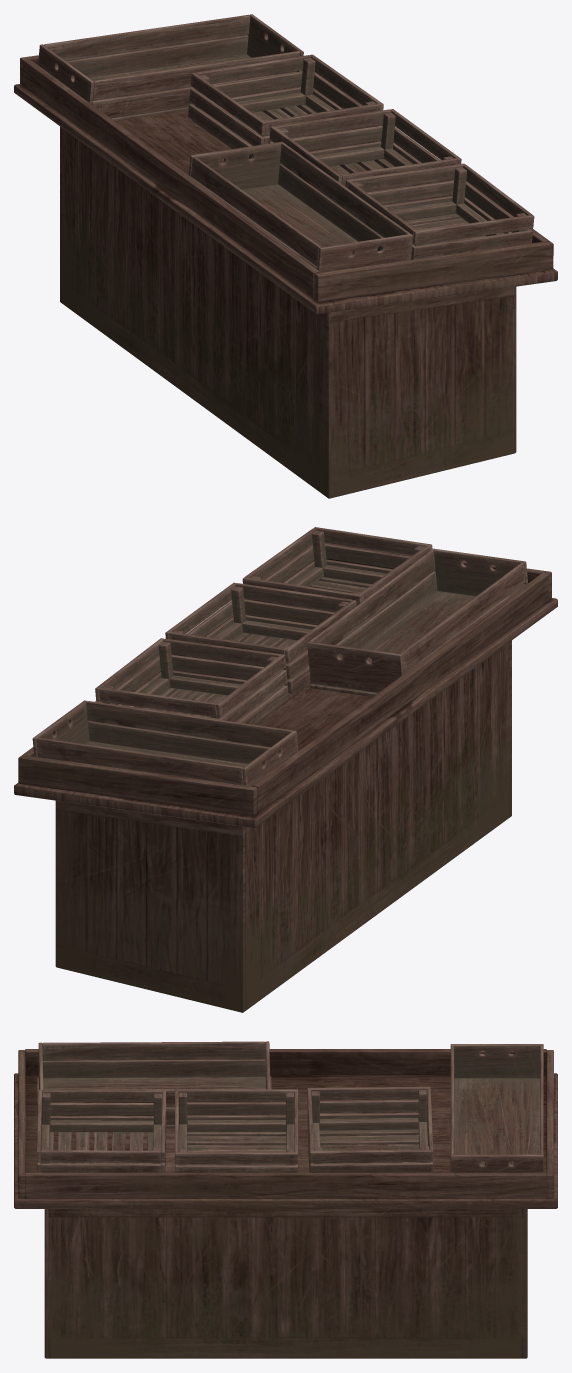
The picture shows the model from 3 angles, top to bottom: view 1: azimuth 30°, elevation 25°; view 2: azimuth 150°, elevation 25°; view 3: azimuth 270°, elevation 25°; orthographic projection. The views are drawn at different scales.
Parts seen in each view (by area): view 1: Table_1_lp, box_l3_lp2, box_l3_lp1, box_s6_lp1, box_s6_lp3, Table_2_lp, Table_3_lp, box_s6_lp2; view 2: Table_1_lp, box_l3_lp1, box_l3_lp2, box_s6_lp1, Table_2_lp, Table_3_lp, box_s6_lp2, box_s6_lp3; view 3: Table_1_lp, Table_3_lp, Table_2_lp, box_l3_lp1, box_l3_lp2, box_s6_lp1, box_s6_lp2, box_s6_lp3.
Part boxes in pixels (x1,y1,x2,y2): Table_1_lp: [20, 55, 553, 498]; box_l3_lp2: [38, 14, 303, 121]; box_l3_lp1: [188, 141, 412, 272]; box_s6_lp1: [188, 54, 383, 158]; box_s6_lp3: [345, 163, 534, 259]; Table_2_lp: [14, 84, 557, 314]; Table_3_lp: [23, 36, 548, 298]; box_s6_lp2: [269, 109, 461, 205]; Table_1_lp: [18, 542, 551, 1012]; box_l3_lp1: [307, 548, 527, 696]; box_l3_lp2: [32, 700, 298, 786]; box_s6_lp1: [95, 638, 288, 741]; Table_2_lp: [14, 598, 557, 828]; Table_3_lp: [23, 544, 548, 812]; box_s6_lp2: [165, 582, 356, 697]; box_s6_lp3: [242, 527, 432, 625]; Table_1_lp: [18, 1050, 553, 1358]; Table_3_lp: [25, 1049, 546, 1198]; Table_2_lp: [14, 1073, 557, 1208]; box_l3_lp1: [37, 1041, 271, 1128]; box_l3_lp2: [450, 1044, 543, 1172]; box_s6_lp1: [307, 1086, 433, 1172]; box_s6_lp2: [175, 1089, 298, 1172]; box_s6_lp3: [37, 1089, 166, 1172].
Bounding box in the file's own units: 6.21 × 6.26 × 13.45.
1 material, 1 textured.
